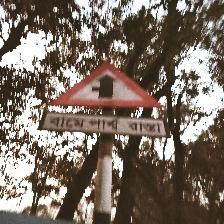Side-road-left: (39, 60, 167, 138)
